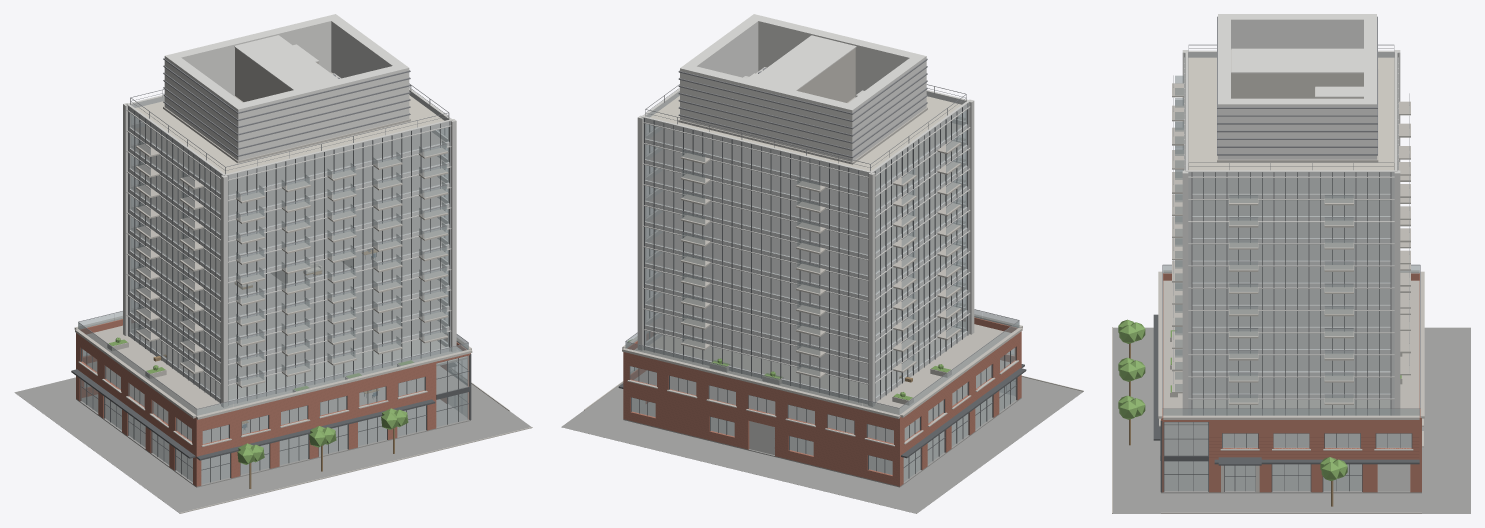
File: clay-brick-podium-condo-tower-clay-v006.glb
3 renders of one model, left to right at view 1: azimuth 30°, elevation 25°; view 2: azimuth 150°, elevation 25°; view 3: azimuth 270°, elevation 25°, orthographic. The views are drawn at different scales.
Visible parts, largest first — view 1: CLAY_GLASS, CLAY_FLOOR, CLAY_SPANDREL, CLAY_METAL, CLAY_FOUNDATION, CLAY_TRIM, CLAY_CONCRETE, CLAY_WALL, CLAY_PALE, CLAY_HARDWARE, CLAY_SAND, CLAY_MEMBRANE (+2 smaller); view 2: CLAY_GLASS, CLAY_FLOOR, CLAY_SPANDREL, CLAY_METAL, CLAY_WALL, CLAY_FOUNDATION, CLAY_TRIM, CLAY_PALE, CLAY_CONCRETE, CLAY_SAND, CLAY_HARDWARE, CLAY_STONE (+1 smaller); view 3: CLAY_GLASS, CLAY_FLOOR, CLAY_FOUNDATION, CLAY_METAL, CLAY_SPANDREL, CLAY_CONCRETE, CLAY_TRIM, CLAY_PALE, CLAY_WALL, CLAY_MEMBRANE, CLAY_SAND, CLAY_HARDWARE (+3 smaller).
Boxes of the visible parts, x1,y1,x2,y2 form: CLAY_GLASS: [78, 113, 469, 484]; CLAY_FLOOR: [87, 126, 467, 443]; CLAY_SPANDREL: [128, 90, 450, 404]; CLAY_METAL: [164, 14, 409, 160]; CLAY_FOUNDATION: [14, 370, 531, 513]; CLAY_TRIM: [71, 106, 471, 482]; CLAY_CONCRETE: [107, 48, 448, 392]; CLAY_WALL: [76, 319, 470, 486]; CLAY_PALE: [123, 73, 456, 407]; CLAY_HARDWARE: [78, 58, 468, 409]; CLAY_SAND: [86, 323, 466, 415]; CLAY_MEMBRANE: [135, 95, 444, 173]; CLAY_GLASS: [625, 110, 1019, 481]; CLAY_FLOOR: [634, 122, 1009, 443]; CLAY_SPANDREL: [643, 91, 969, 404]; CLAY_METAL: [680, 14, 926, 161]; CLAY_WALL: [623, 317, 1021, 486]; CLAY_FOUNDATION: [561, 377, 1082, 513]; CLAY_TRIM: [618, 103, 1026, 478]; CLAY_PALE: [631, 67, 974, 455]; CLAY_CONCRETE: [678, 48, 964, 405]; CLAY_SAND: [634, 321, 1010, 414]; CLAY_HARDWARE: [625, 58, 1019, 408]; CLAY_STONE: [584, 314, 1083, 446]; CLAY_GLASS: [1162, 75, 1420, 490]; CLAY_FLOOR: [1163, 178, 1419, 455]; CLAY_FOUNDATION: [1113, 327, 1470, 513]; CLAY_METAL: [1218, 14, 1376, 159]; CLAY_SPANDREL: [1188, 52, 1394, 415]; CLAY_CONCRETE: [1170, 50, 1410, 404]; CLAY_TRIM: [1153, 53, 1419, 492]; CLAY_PALE: [1182, 50, 1409, 491]; CLAY_WALL: [1161, 273, 1421, 492]; CLAY_MEMBRANE: [1188, 57, 1394, 170]; CLAY_SAND: [1163, 280, 1419, 423]; CLAY_HARDWARE: [1162, 16, 1420, 408].
Size of the model in its own units: 54 by 50.1 by 44.
